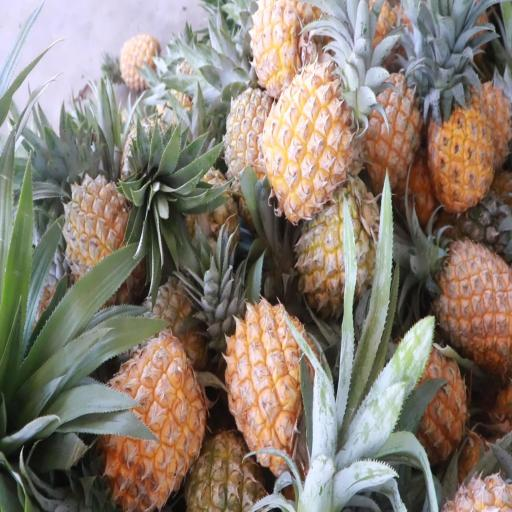------------------------------: (296, 192, 379, 323)
Pineapple - v8 v1: (89, 340, 206, 502), (226, 304, 316, 470), (267, 70, 353, 218), (423, 240, 512, 355), (384, 343, 465, 469), (359, 64, 424, 186), (430, 96, 495, 212), (252, 2, 321, 94)
